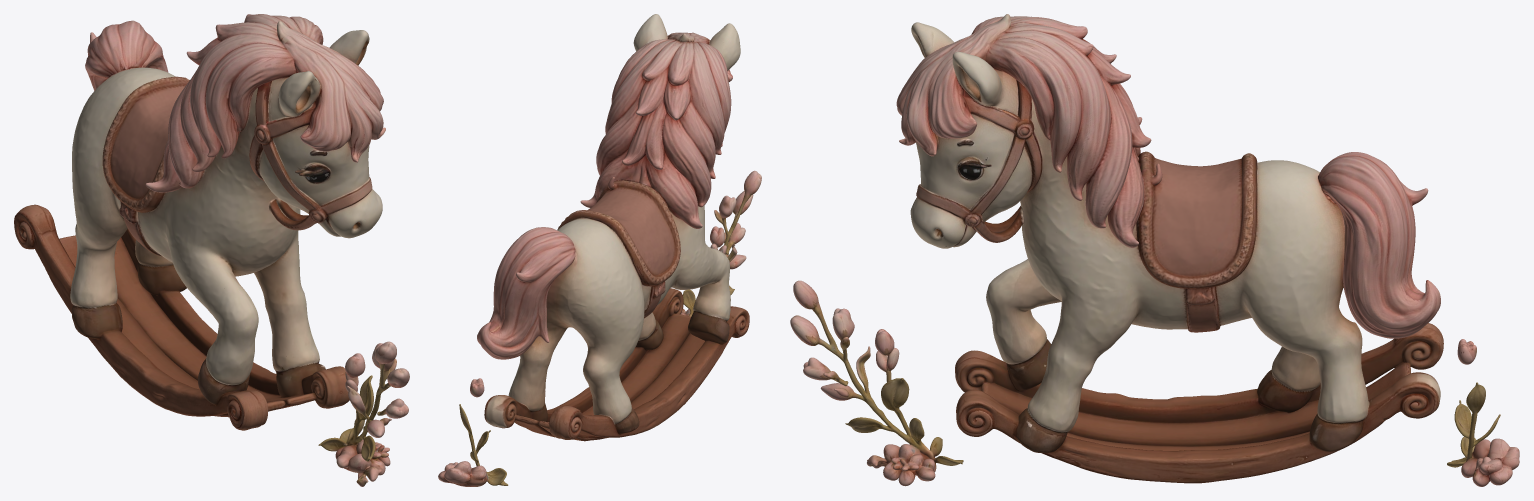
File: rockinghorsgdel-v1.glb
3 renders of one model, left to right at view 1: azimuth 30°, elevation 25°; view 2: azimuth 150°, elevation 25°; view 3: azimuth 270°, elevation 25°, orthographic. The views are drawn at different scales.
Parts seen in each view (by area): view 1: tripo_node_42651fd5-d216-4a11-a029-a287cbdd41aa; view 2: tripo_node_42651fd5-d216-4a11-a029-a287cbdd41aa; view 3: tripo_node_42651fd5-d216-4a11-a029-a287cbdd41aa.
Part boxes in pixels (bbox=[...]): tripo_node_42651fd5-d216-4a11-a029-a287cbdd41aa: bbox=[14, 14, 409, 486]; tripo_node_42651fd5-d216-4a11-a029-a287cbdd41aa: bbox=[438, 14, 761, 486]; tripo_node_42651fd5-d216-4a11-a029-a287cbdd41aa: bbox=[790, 14, 1519, 486].
Size of the model in its own units: 0.2569 by 0.6776 by 1.
Materials: 1 (1 with a texture image).
